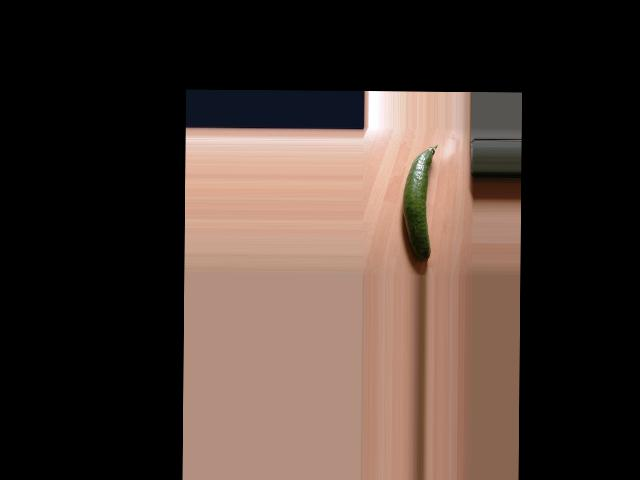cucumber: (401, 143, 437, 262)
